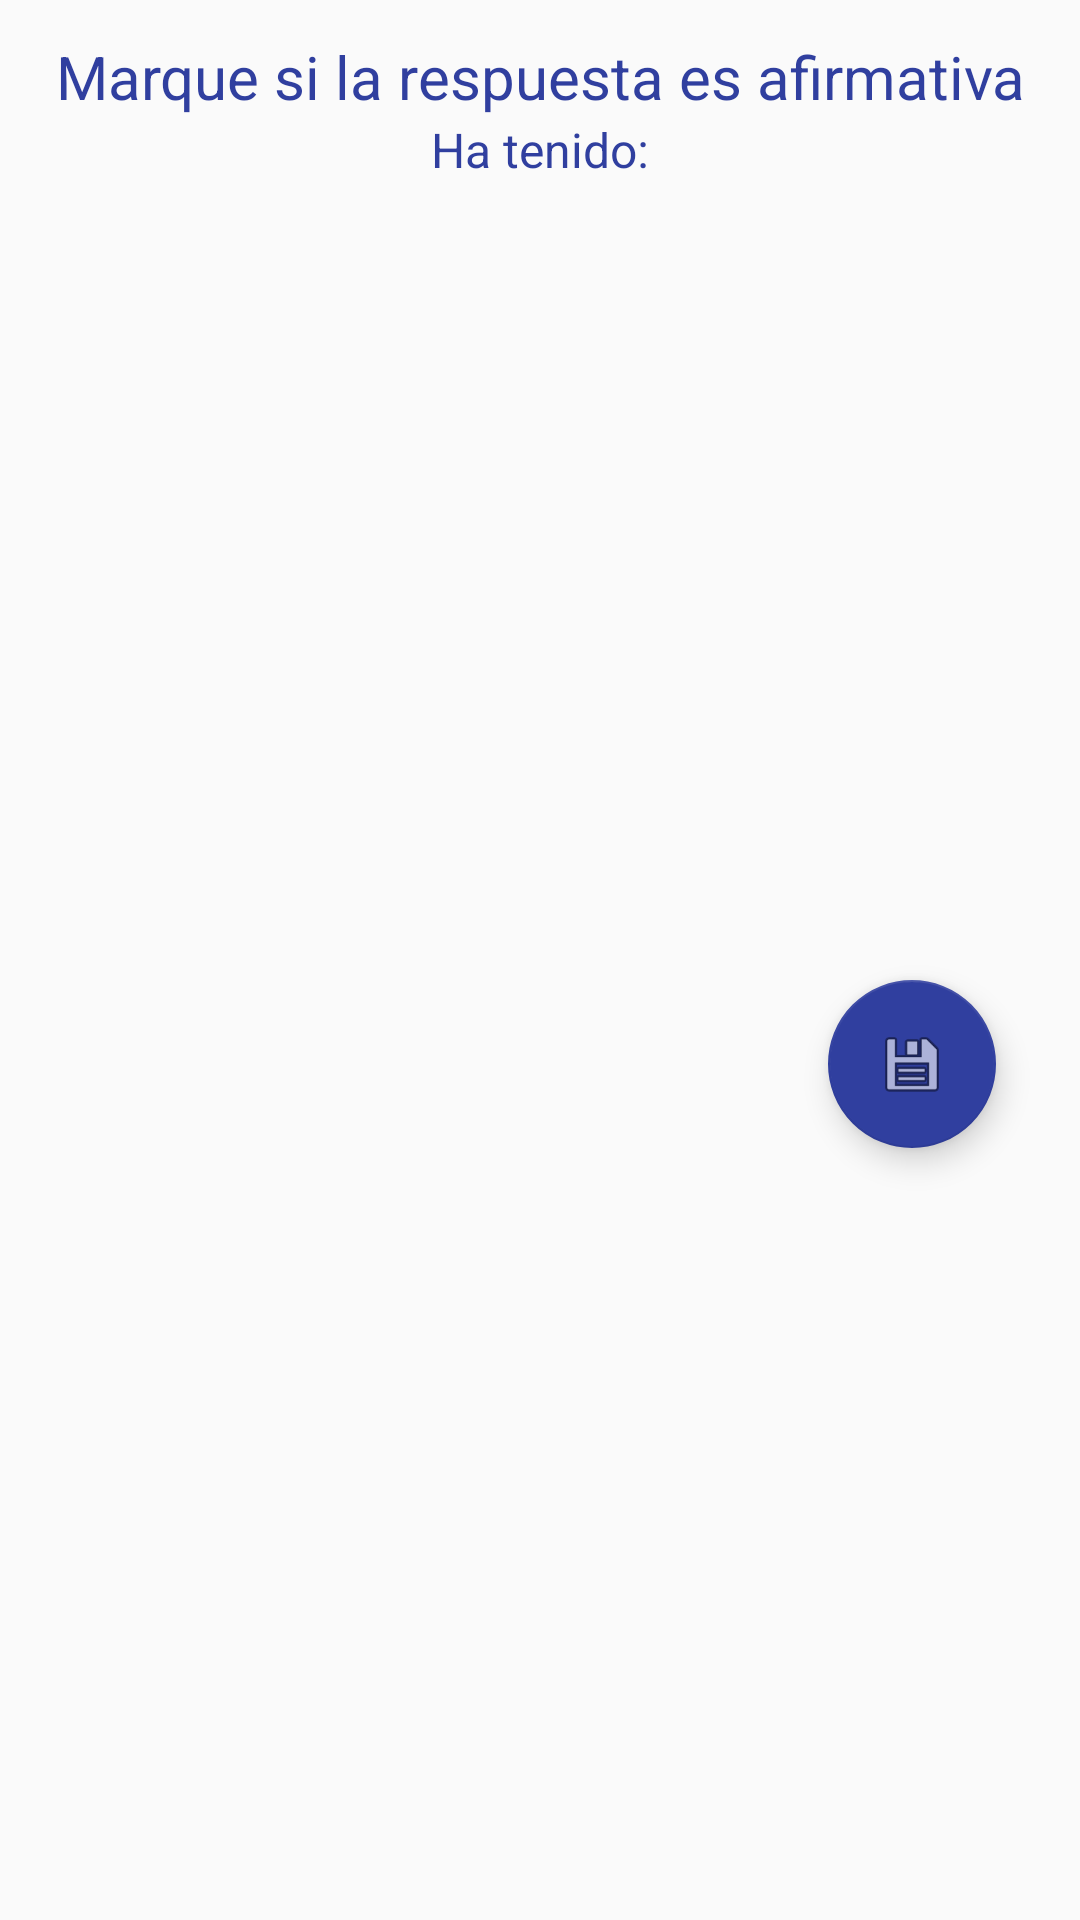

Named icons in this screenshot (1080 × 1920) and their bounding boxes, (x1, y1, x2, y2):
save: (828, 980, 996, 1148)
